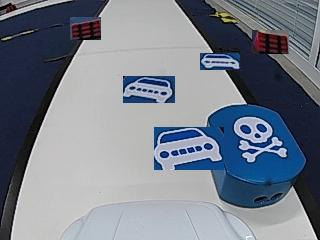danger: (235, 118, 283, 163)
